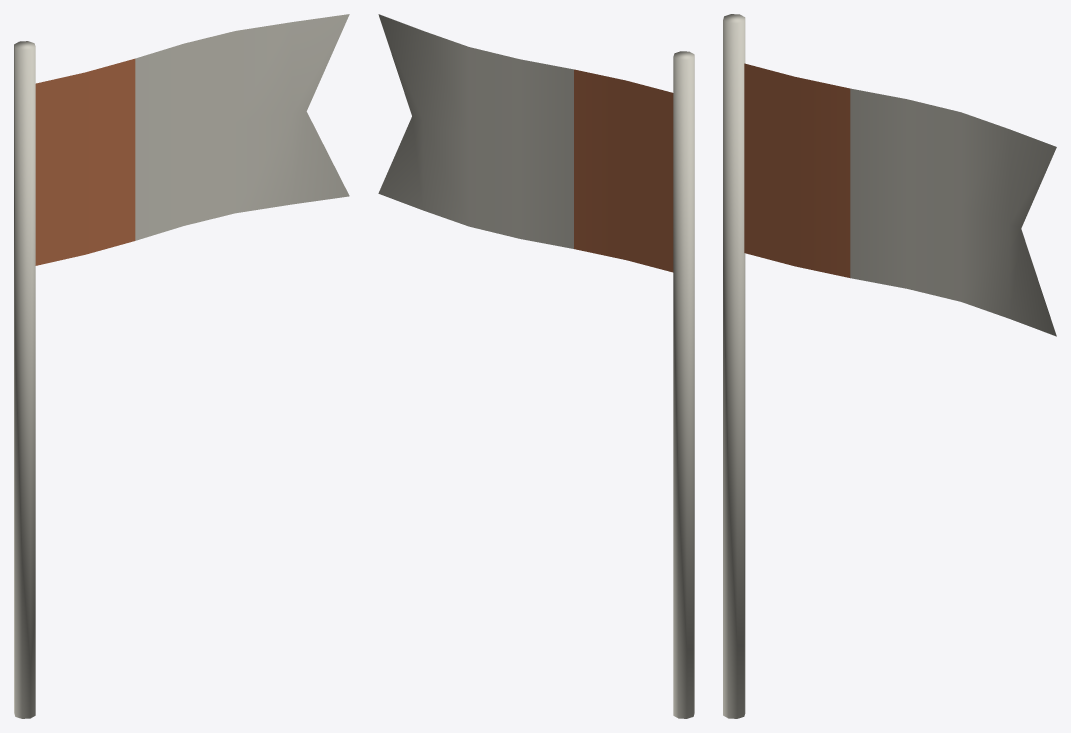
Rendered from ferry_flag.glb.
The picture shows the model from 3 angles, left to right: view 1: azimuth 30°, elevation 25°; view 2: azimuth 150°, elevation 25°; view 3: azimuth 330°, elevation 25°; orthographic projection. The views are drawn at different scales.
Visible parts, largest first — view 1: ferry_flag; view 2: ferry_flag; view 3: ferry_flag.
Boxes of the visible parts, x1,y1,x2,y2 form: ferry_flag: (14, 14, 349, 718); ferry_flag: (378, 14, 694, 718); ferry_flag: (723, 14, 1056, 718).
Size of the model in its own units: 0.845 by 1.65 by 0.0576.
